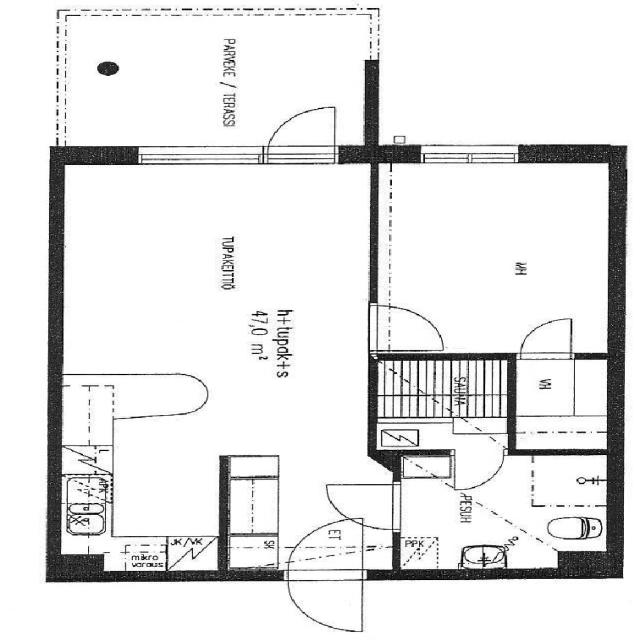door: (276, 522, 369, 638), (130, 369, 220, 421), (365, 299, 453, 351), (321, 480, 406, 533), (265, 101, 345, 155), (510, 312, 585, 362), (443, 442, 507, 493)
window: (407, 140, 530, 171), (128, 140, 263, 168)
zone: (371, 159, 624, 357), (395, 450, 609, 572), (60, 423, 224, 572), (508, 356, 612, 451), (371, 355, 514, 421), (367, 418, 519, 452), (224, 533, 280, 574)
